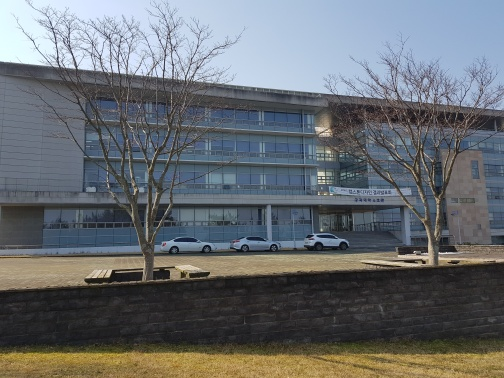Engineering College Building 4: (1, 64, 499, 245), (30, 74, 318, 230), (440, 144, 497, 241), (322, 180, 412, 217)
